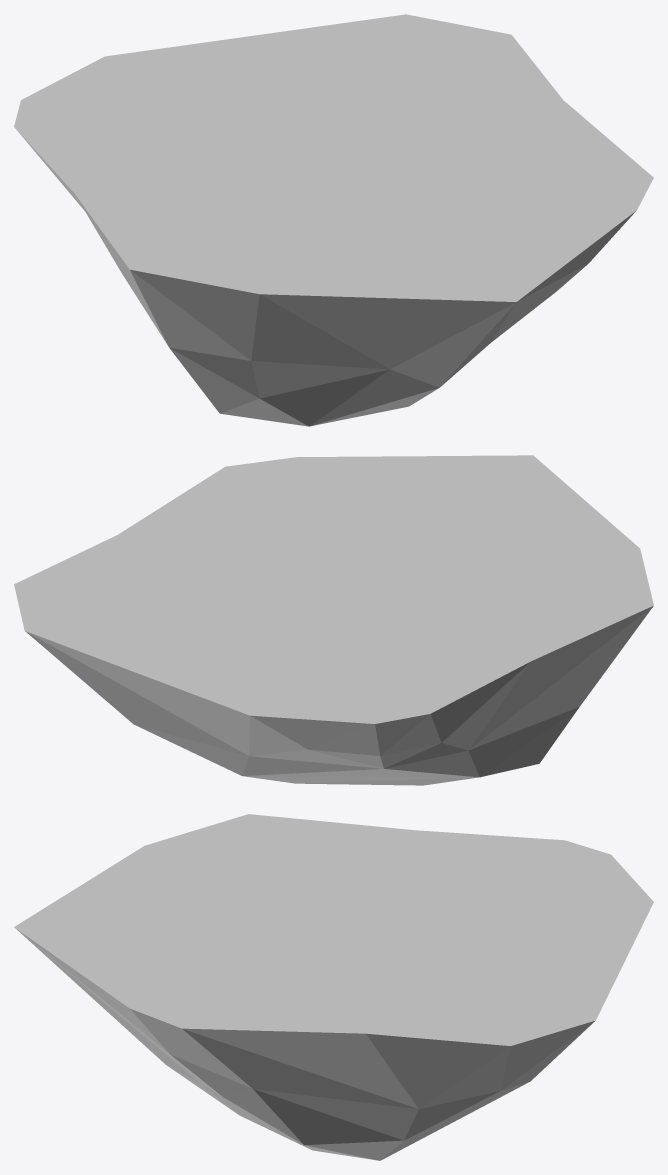
Rendered from plateau.obj.
3 views of the same model, one above another, from view 1: azimuth 30°, elevation 25°; view 2: azimuth 150°, elevation 25°; view 3: azimuth 270°, elevation 25° (orthographic). The views are drawn at different scales.
Parts seen in each view (by area): view 1: plateau_立方体; view 2: plateau_立方体; view 3: plateau_立方体.
Part boxes in pixels (left/top/right/bottom): plateau_立方体: left=14, top=14, right=653, bottom=426; plateau_立方体: left=14, top=455, right=653, bottom=785; plateau_立方体: left=14, top=814, right=653, bottom=1160.
Size of the model in its own units: 143 by 55.28 by 167.
1 material, 1 textured.
